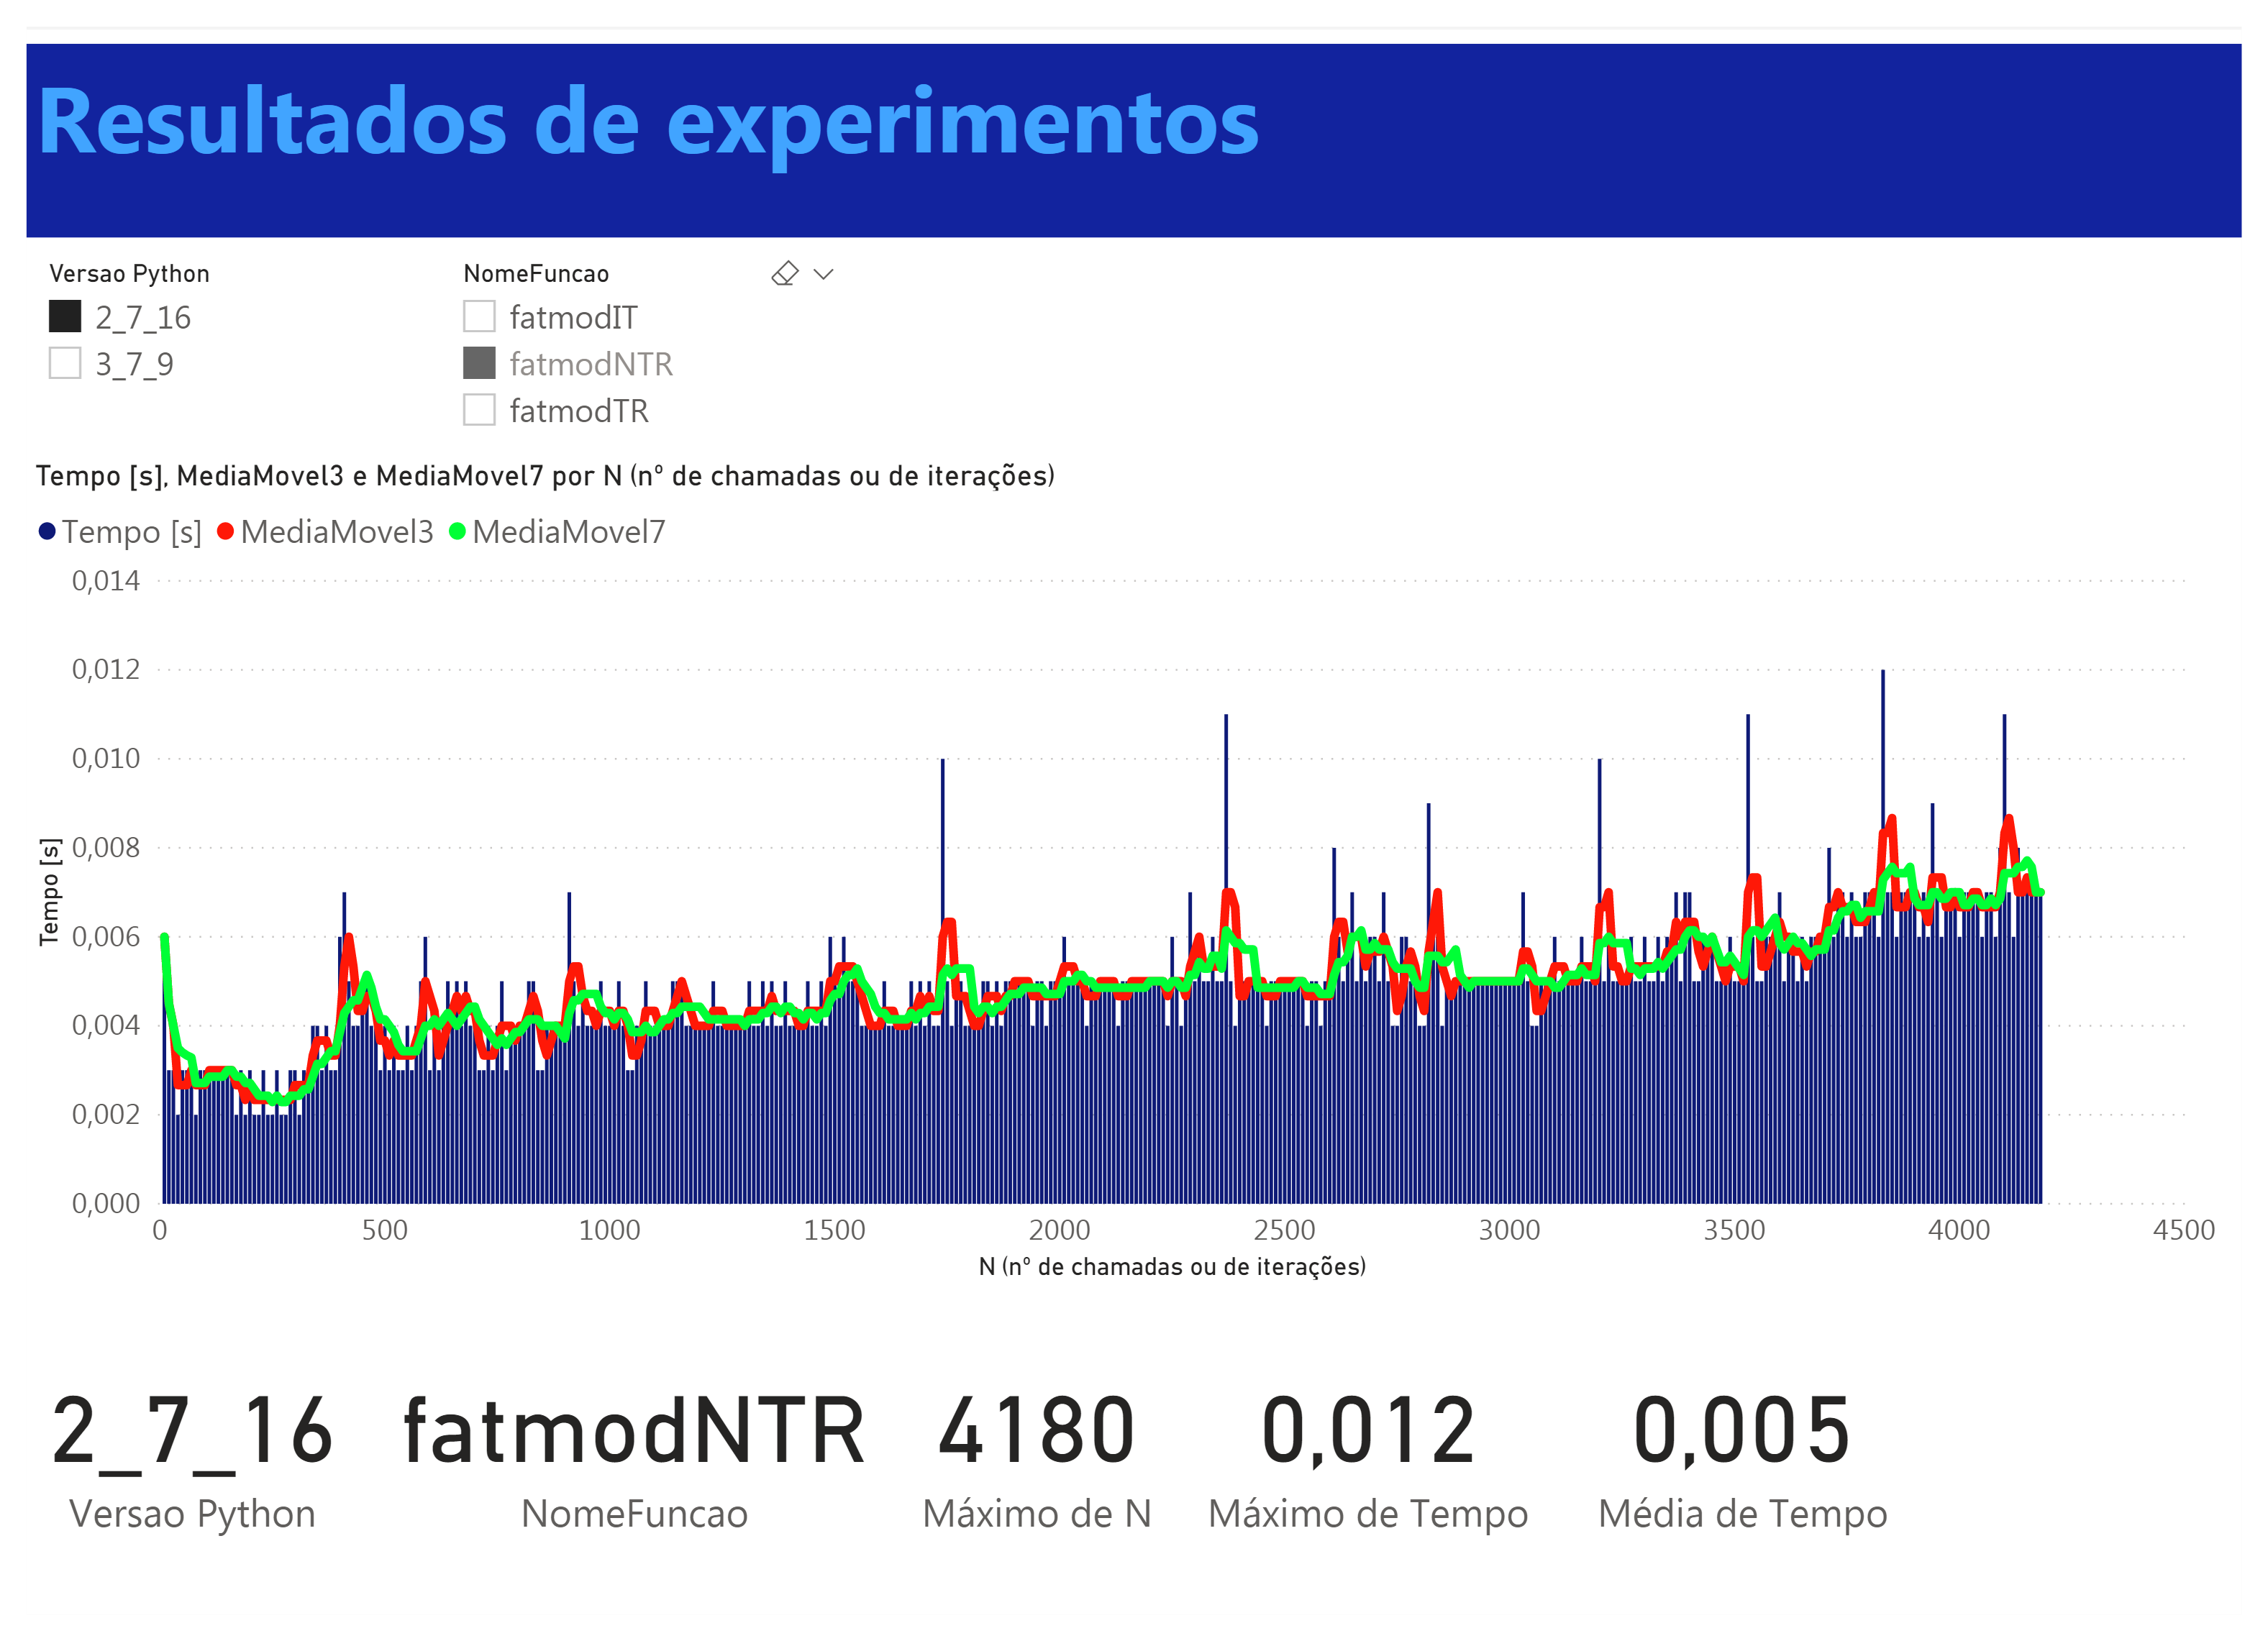

What the dashboard file says about the page in this screenshot:
{"tool":"powerbi","page":{"name":"FatMod","canvas":[1280,900],"ordinal":0},"visuals":[{"type":"card","fields":{"Values":["Max(Tabela1.Tempo)"]},"box":[672,720,208,176],"z":0},{"type":"card","fields":{"Values":["Min(Tabela1.NomeFuncao)"]},"box":[208,720,288,176],"z":1000},{"type":"card","fields":{"Values":["Max(Tabela1.N)"]},"box":[496,720,176,176],"z":2000},{"type":"card","fields":{"Values":["Avg(Tabela1.Tempo)"]},"box":[896,720,192,176],"z":3000},{"type":"slicer","fields":{"Values":["Tabela1.Versao Python"]},"box":[0,120,168,96],"z":4000},{"type":"card","fields":{"Values":["Min(Tabela1.Versao Python)"]},"box":[0,720,192,176],"z":5000},{"type":"textbox","box":[0,0,1280,112],"z":6000},{"type":"lineClusteredColumnComboChart","fields":{"Y":["Sum(Tabela1.Tempo)"],"Category":["Tabela1.N"],"Y2":["Tabela1.MediaMovel3","Tabela1.MediaMovel7"]},"box":[0,240,1272,480],"z":7000},{"type":"slicer","fields":{"Values":["Tabela1.NomeFuncao"]},"box":[240,120,240,120],"z":8000}]}

Visuals, with their boxes in screenshot pixels (x1, y1, x2, y2), scaled from the page's 1280x900 canvas onto the 2268x1641 screenshot:
card - Max(Tabela1.Tempo): (x1=1190, y1=1313, x2=1559, y2=1634)
card - Min(Tabela1.NomeFuncao): (x1=368, y1=1313, x2=879, y2=1634)
card - Max(Tabela1.N): (x1=879, y1=1313, x2=1190, y2=1634)
card - Avg(Tabela1.Tempo): (x1=1588, y1=1313, x2=1928, y2=1634)
slicer - Tabela1.Versao Python: (x1=0, y1=219, x2=298, y2=394)
card - Min(Tabela1.Versao Python): (x1=0, y1=1313, x2=340, y2=1634)
textbox: (x1=0, y1=0, x2=2267, y2=204)
lineClusteredColumnComboChart - Sum(Tabela1.Tempo) x Tabela1.N: (x1=0, y1=438, x2=2254, y2=1313)
slicer - Tabela1.NomeFuncao: (x1=425, y1=219, x2=850, y2=438)
